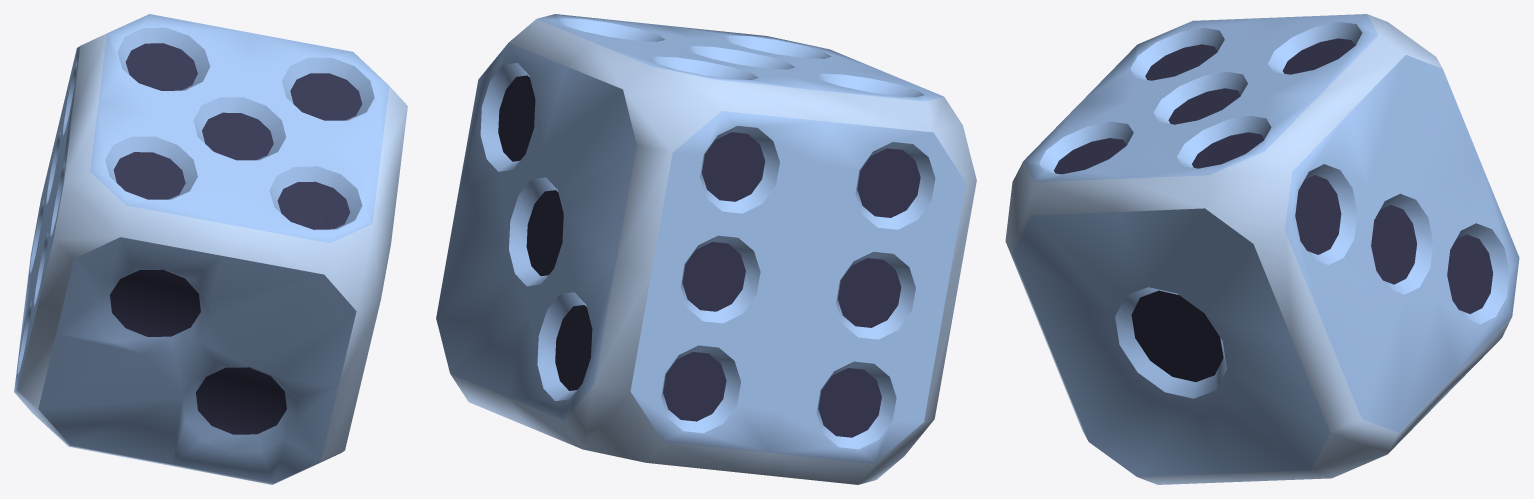
The picture shows the model from 3 angles, left to right: view 1: azimuth 30°, elevation 25°; view 2: azimuth 150°, elevation 25°; view 3: azimuth 270°, elevation 25°; orthographic projection. The views are drawn at different scales.
Parts seen in each view (by area): view 1: model_0.045; view 2: model_0.045; view 3: model_0.045.
Boxes of the visible parts, <box> form: model_0.045: <box>14,14,407,484</box>; model_0.045: <box>436,14,976,484</box>; model_0.045: <box>1005,14,1519,484</box>.
Bounding box in the file's own units: 3.78 × 3.77 × 4.17.
